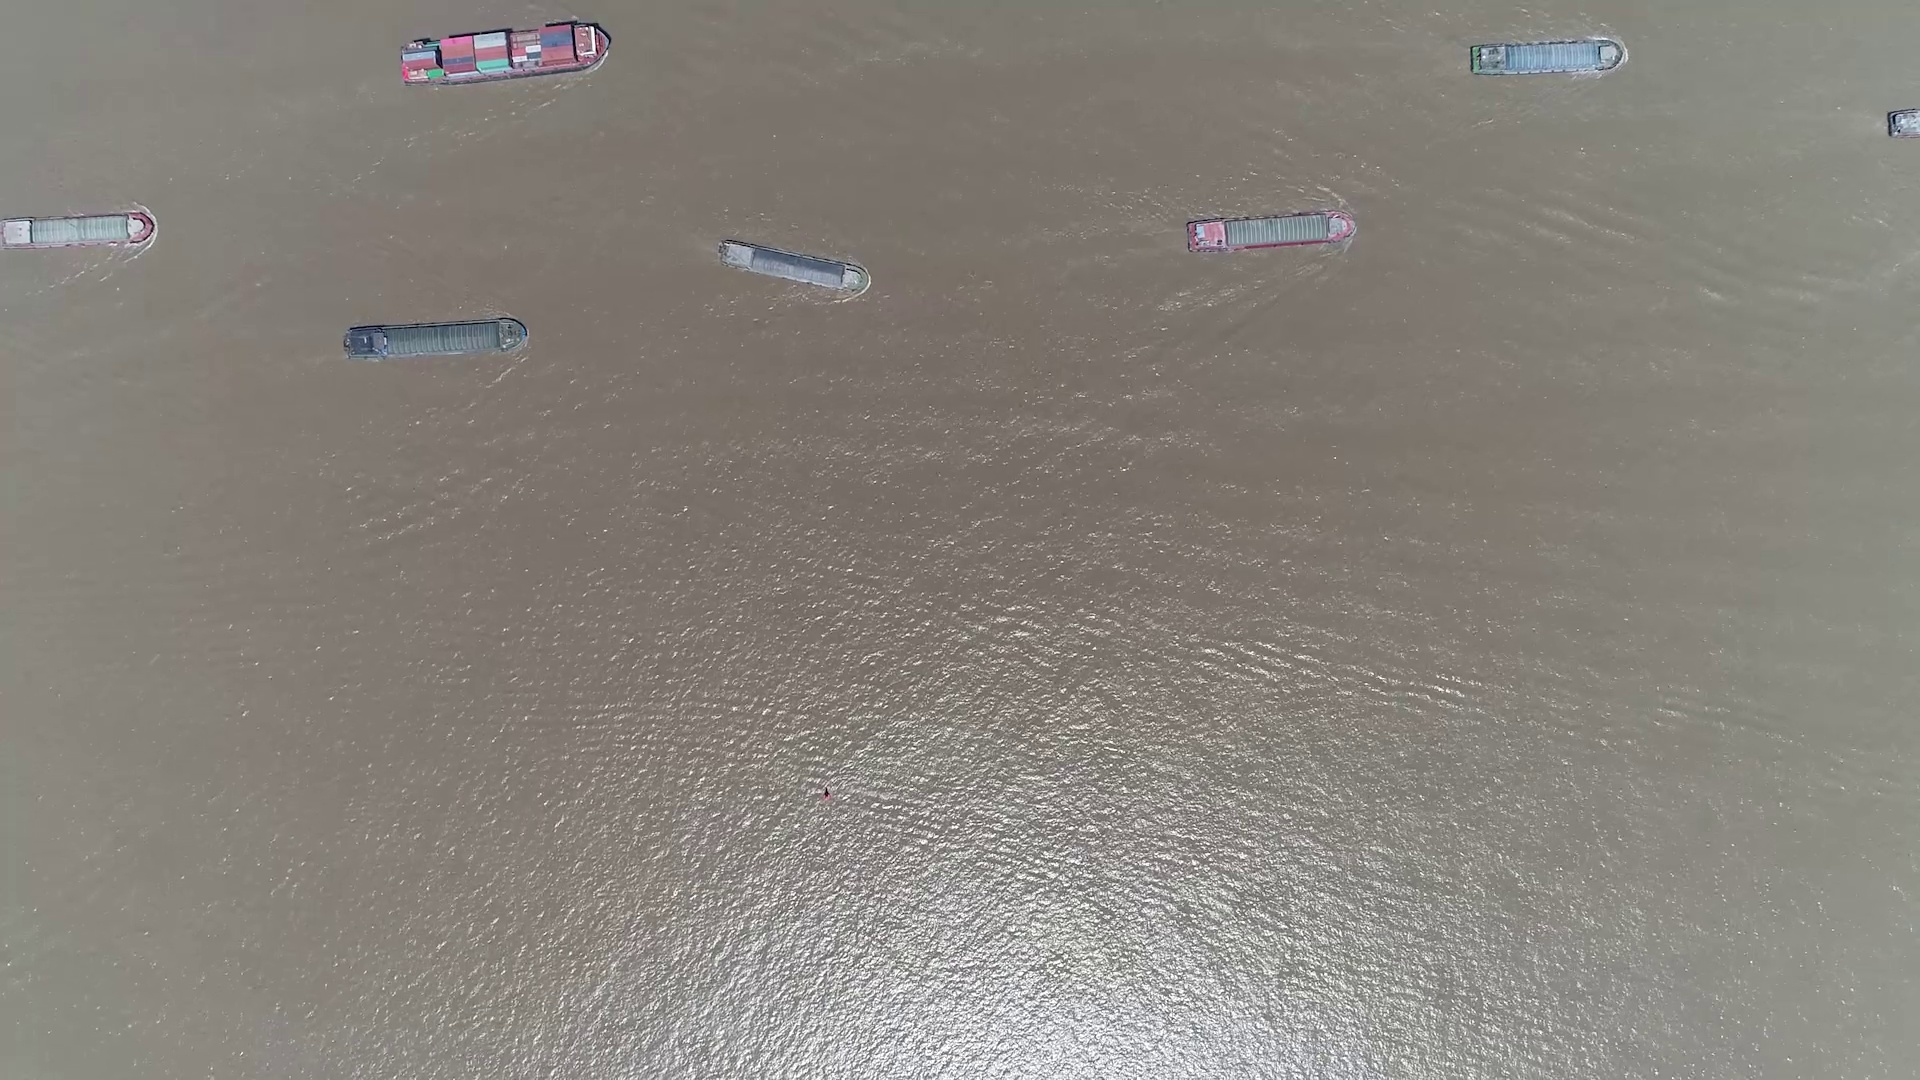ship: (400, 25, 608, 86), (717, 239, 868, 291), (343, 320, 527, 361), (1185, 211, 1357, 253), (1472, 40, 1622, 76), (3, 212, 153, 247)
